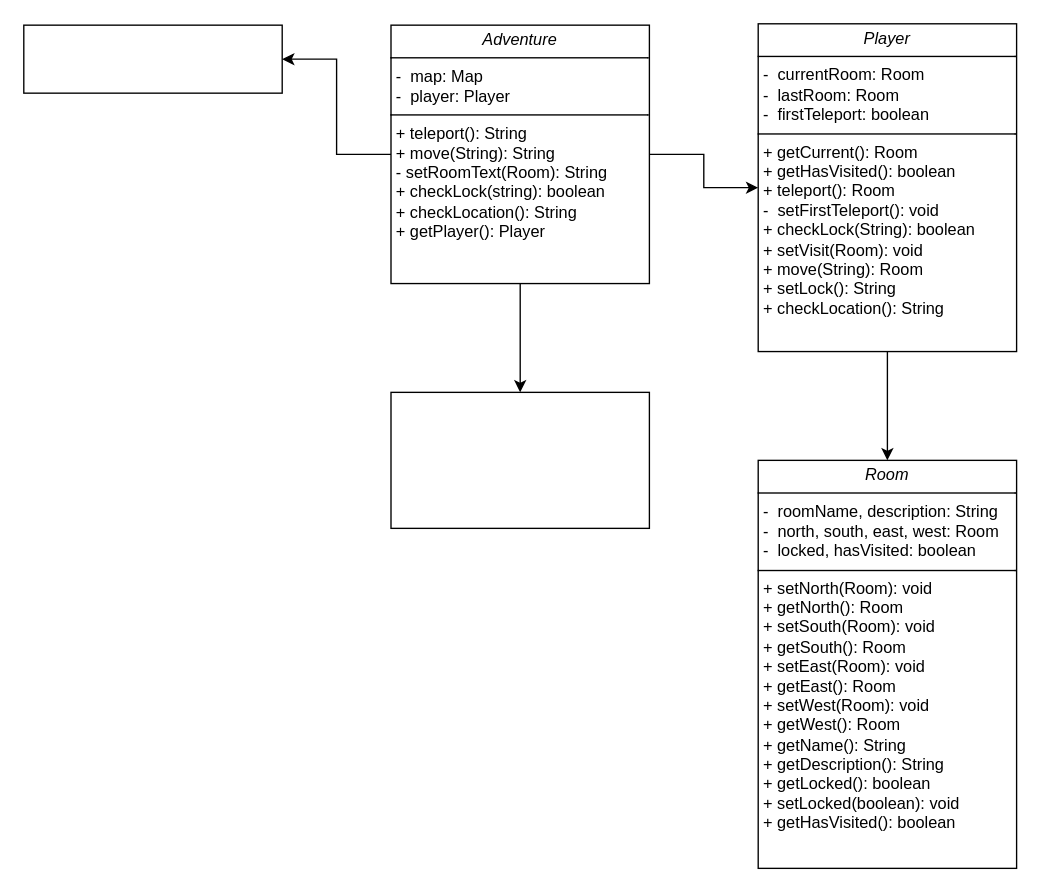
Some shapes in this 1040 by 892 pixel diagram are drawn without their labels. Each missing label, with the centre of its shape:
"Map - room: Room - createMap(): void + getRoom(): Room" goes at pixel 519 459.
"UserInterface + game(): void" goes at pixel 152 58.
